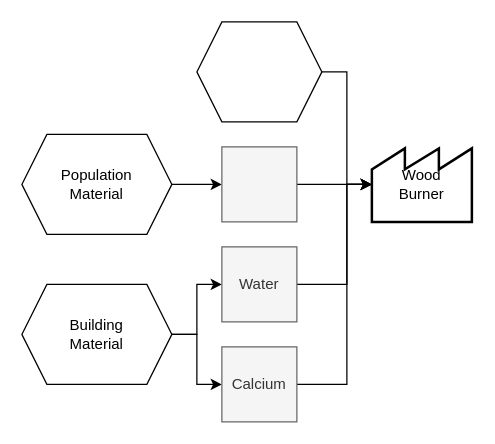
The diagram is 495 pixels wide and 444 high, and some of its shapes have lost their labels. Here are the shapes that lost their labels. From the top down, the box of each, then its label:
(196, 21, 322, 122): Forest Tile
(221, 146, 297, 222): Energy
